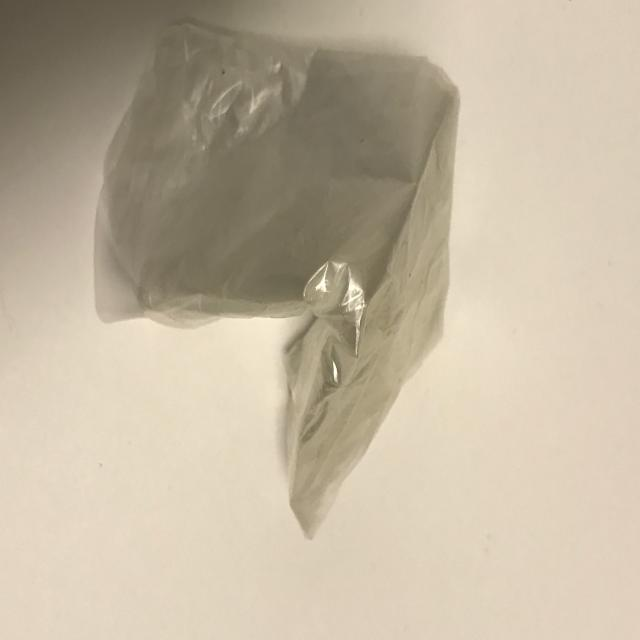trash: (92, 18, 461, 539)
